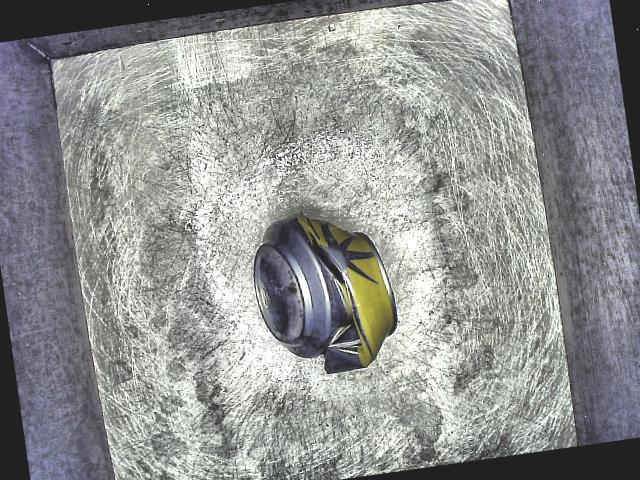Bottles: (230, 193, 442, 404)
